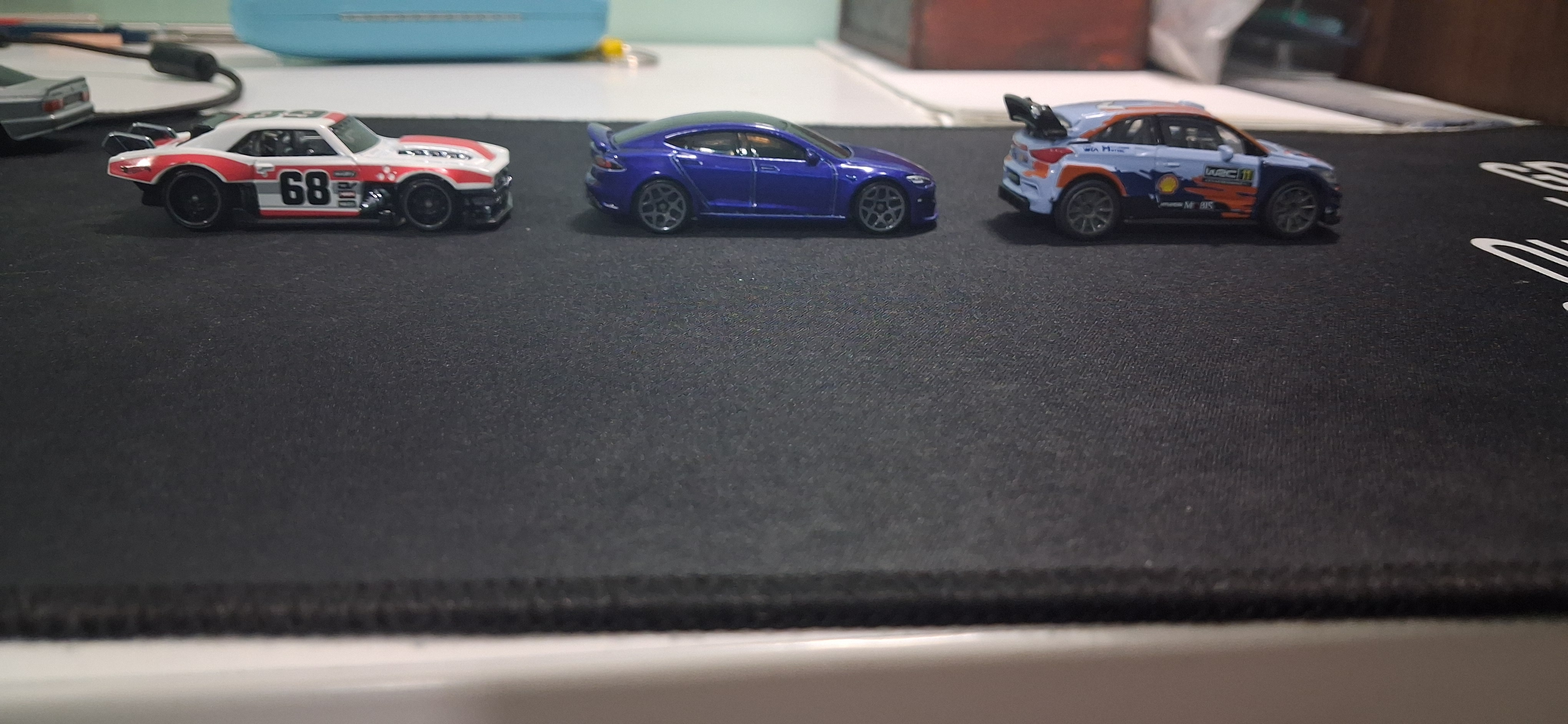Camaro: (78, 85, 515, 268)
Hyundai_I20_WRC: (987, 80, 1409, 298)
Tesla_Model_S_Plaid: (526, 119, 954, 276)
